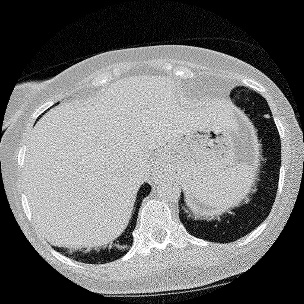PN: (265, 114, 269, 118)
